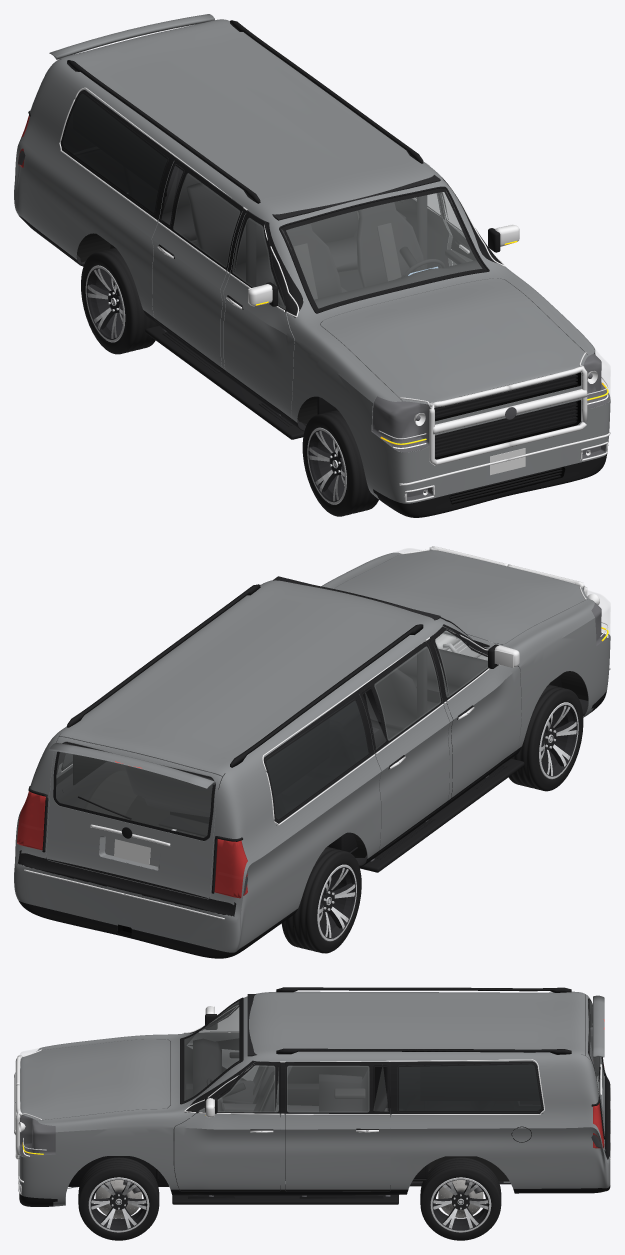
Rendered from fullSizeSuv-lod0.glb.
3 renders of one model, top to bottom at view 1: azimuth 30°, elevation 25°; view 2: azimuth 150°, elevation 25°; view 3: azimuth 270°, elevation 25°, orthographic. The views are drawn at different scales.
Visible parts, largest first — view 1: Body, HoodSkin, Windscreen, Panel_RR, Panel_FR, Glass_Quarter_RR, SeatMesh_Rear_Back, Window_RR, Grille_Lower_Grille, Wheel_RR_Tyre, Wheel_FR_Tyre, Seat_FL_Back (+27 smaller); view 2: Body, HoodSkin, TrunkSkin, RearWindow, Panel_RR, Panel_FR, Glass_Quarter_RR, Window_RR, Wheel_RR_Tyre, Wheel_FR_Tyre, Step_R, Arch_R_L_Liner (+17 smaller); view 3: Body, HoodSkin, Panel_RL, Panel_FL, Glass_Quarter_RL, Windscreen, Window_RL, Wheel_FL_Tyre, Wheel_RL_Tyre, Step_L, Window_FL, Wheel_RL_Lip (+25 smaller).
Part boxes in pixels (x1,y1,x2,y2): Body: (14, 19, 610, 517); HoodSkin: (320, 278, 588, 404); Windscreen: (281, 188, 487, 311); Panel_RR: (152, 159, 243, 369); Panel_FR: (223, 211, 294, 419); Glass_Quarter_RR: (62, 92, 168, 214); SeatMesh_Rear_Back: (187, 181, 358, 267); Window_RR: (173, 173, 239, 267); Grille_Lower_Grille: (435, 401, 577, 457); Wheel_RR_Tyre: (81, 247, 158, 354); Wheel_FR_Tyre: (302, 410, 378, 516); Seat_FL_Back: (356, 202, 424, 287); Body: (14, 552, 610, 958); HoodSkin: (334, 550, 588, 644); TrunkSkin: (46, 737, 222, 898); RearWindow: (53, 742, 215, 840); Panel_RR: (358, 641, 449, 851); Panel_FR: (429, 627, 521, 799); Glass_Quarter_RR: (265, 698, 369, 820); Window_RR: (374, 646, 440, 740); Wheel_RR_Tyre: (281, 846, 361, 953); Wheel_FR_Tyre: (508, 684, 583, 791); Step_R: (359, 758, 524, 872); Arch_R_L_Liner: (83, 770, 172, 829); Body: (19, 991, 610, 1206); HoodSkin: (20, 1039, 170, 1120); Panel_RL: (285, 1062, 390, 1191); Panel_FL: (174, 1061, 280, 1191); Glass_Quarter_RL: (397, 1063, 542, 1112); Windscreen: (181, 999, 242, 1102); Window_RL: (287, 1066, 369, 1112); Wheel_FL_Tyre: (78, 1157, 159, 1240); Wheel_RL_Tyre: (420, 1157, 501, 1240); Step_L: (172, 1195, 398, 1204); Window_FL: (199, 1065, 278, 1112); Wheel_RL_Lip: (430, 1177, 491, 1232).
Size of the model in its own units: 2.32 by 1.91 by 5.76.
